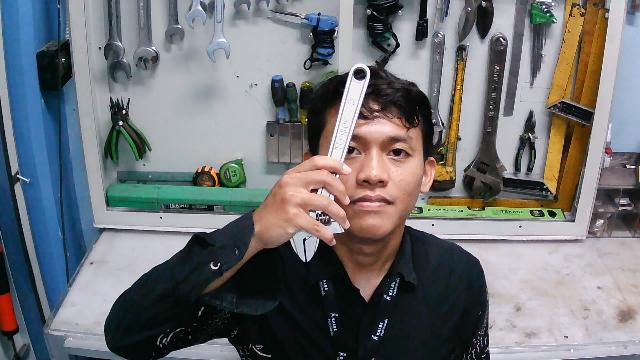kunci_inggris: (289, 61, 372, 263)
